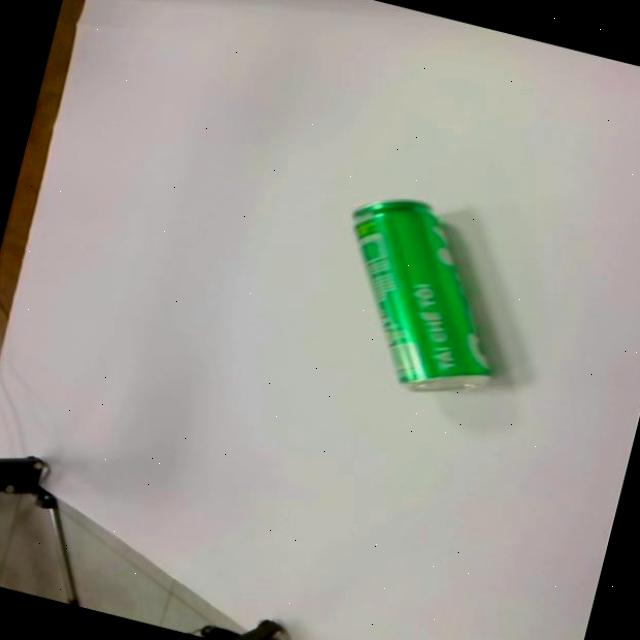debris: (312, 182, 528, 404)
